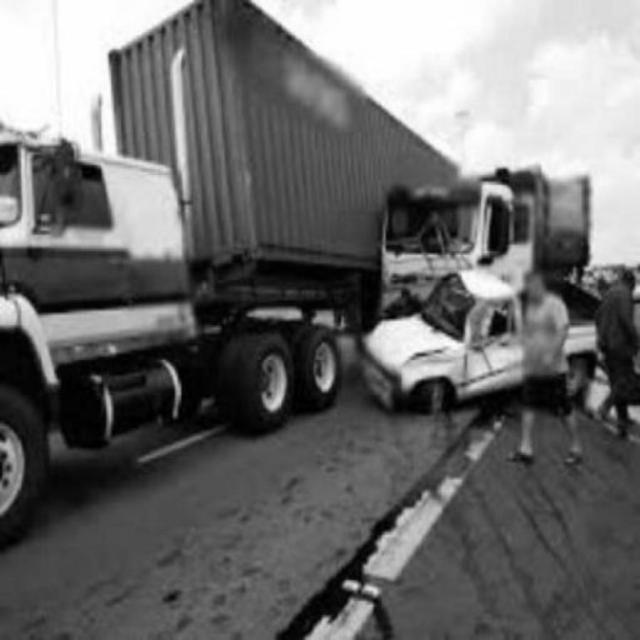accident: (25, 172, 529, 424)
person: (516, 276, 593, 464), (588, 260, 640, 444)
